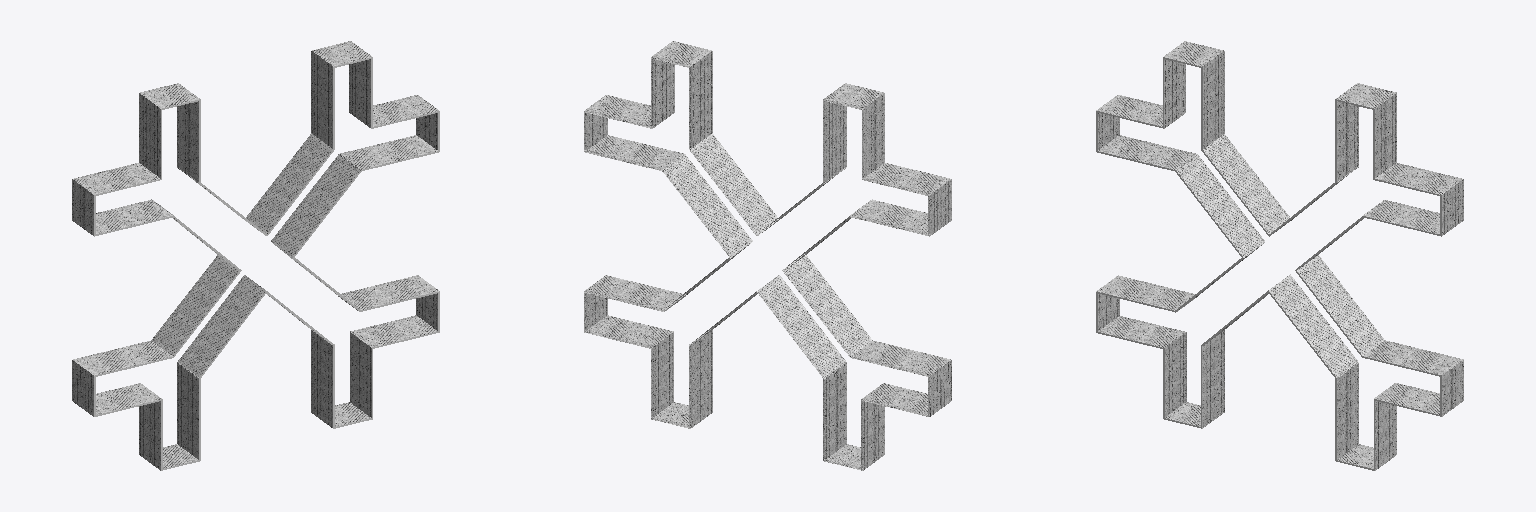
3 renders of one model, left to right at view 1: azimuth 30°, elevation 25°; view 2: azimuth 150°, elevation 25°; view 3: azimuth 330°, elevation 25°, orthographic.
Parts seen in each view (by area): view 1: walls; view 2: walls; view 3: walls.
Boxes of the visible parts, <box> form: walls: <box>72,41,439,470</box>; walls: <box>584,41,951,470</box>; walls: <box>1096,41,1463,470</box>.
Size of the model in its own units: 22.66 by 22.69 by 2.5.
Materials: 1 (1 with a texture image).